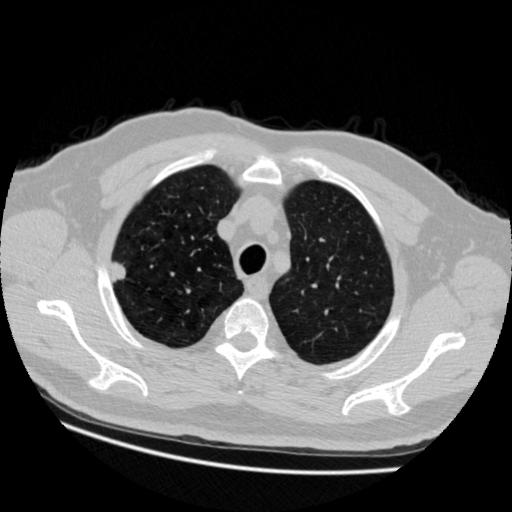nodule: (105, 259, 131, 285)
